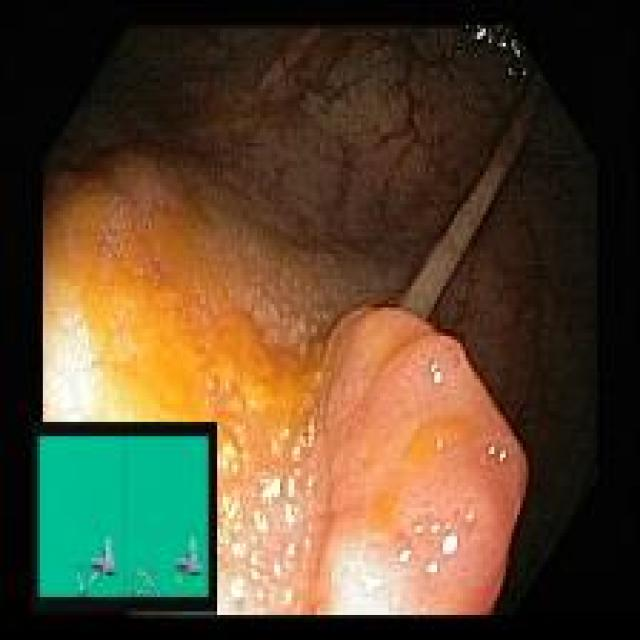Polyps: (320, 308, 526, 615)
